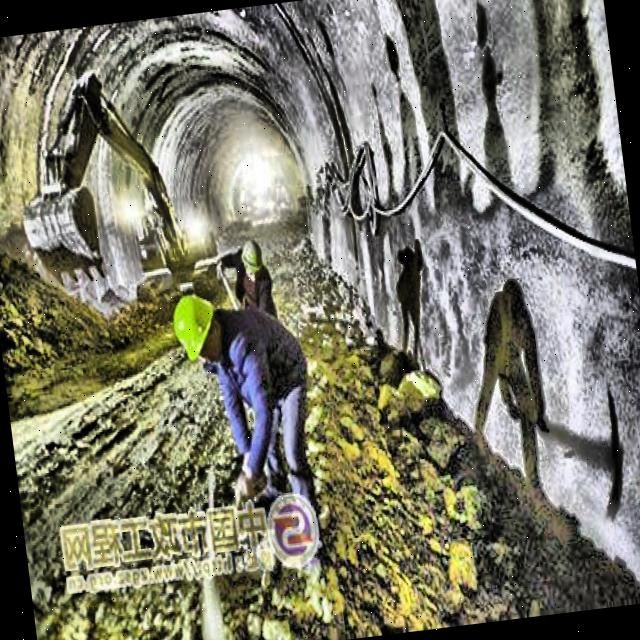helmet: (162, 284, 232, 374), (234, 235, 268, 287)
